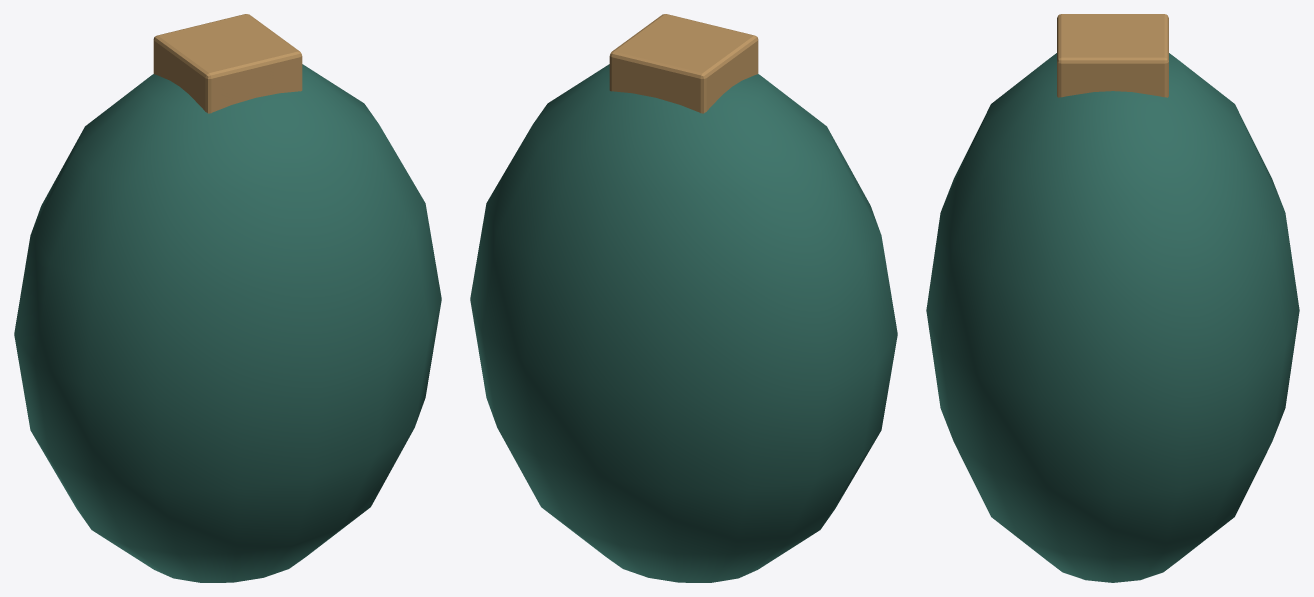
Rendered from SM_Keeper_Sobek_Tail2.fbx.
3 renders of one model, left to right at view 1: azimuth 30°, elevation 25°; view 2: azimuth 150°, elevation 25°; view 3: azimuth 270°, elevation 25°, orthographic.
Visible parts, largest first — view 1: SM_Keeper_Sobek_Tail2; view 2: SM_Keeper_Sobek_Tail2; view 3: SM_Keeper_Sobek_Tail2.
Boxes of the visible parts, <box> form: SM_Keeper_Sobek_Tail2: <box>14,14,441,582</box>; SM_Keeper_Sobek_Tail2: <box>470,14,897,582</box>; SM_Keeper_Sobek_Tail2: <box>926,14,1299,582</box>.
Bounding box in the file's own units: 4 × 5.22 × 3.33.
